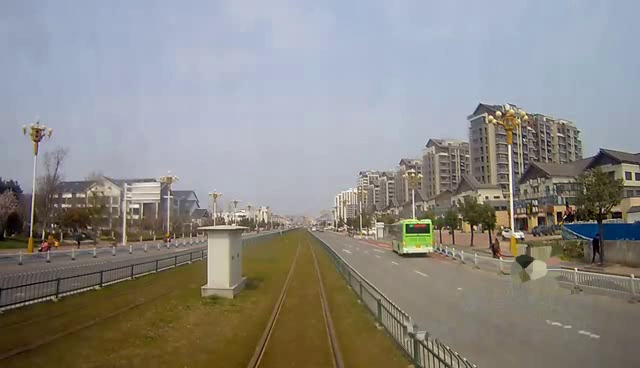bus: (391, 218, 439, 260)
